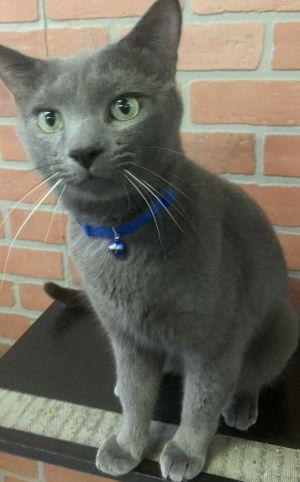rblue: (1, 1, 196, 220)
